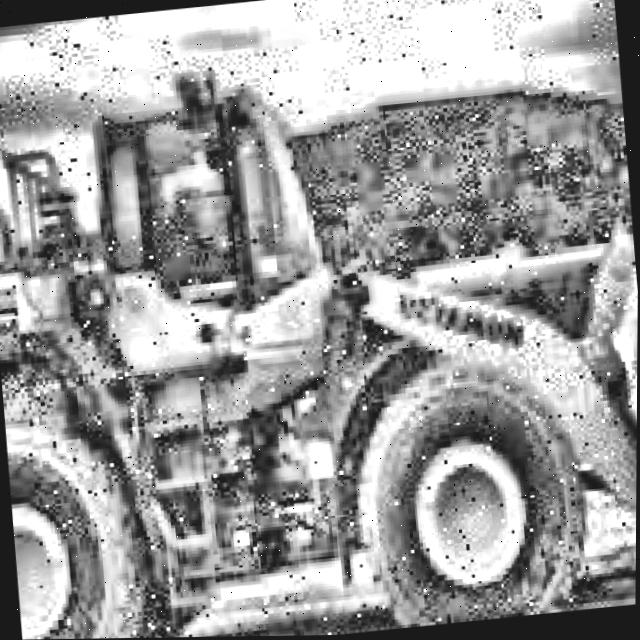buldozerpayloadergrader: (0, 3, 640, 640)
